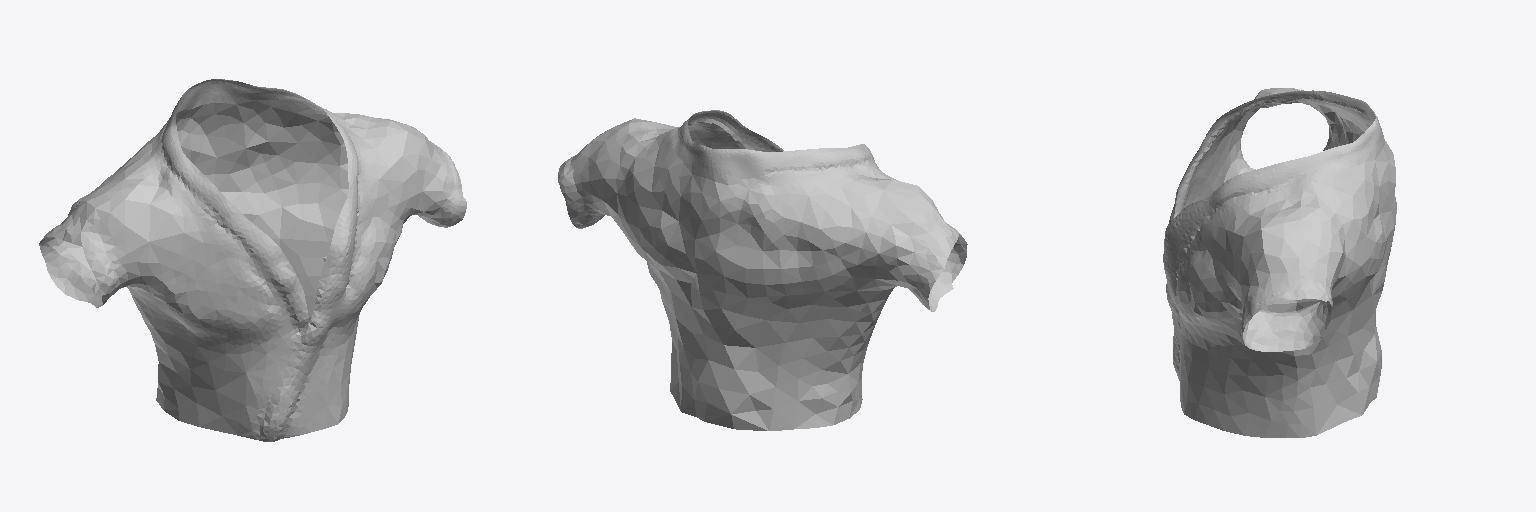
The model's file is Yoda_Shirt_2.obj.
The picture shows the model from 3 angles: view 1: azimuth 30°, elevation 25°; view 2: azimuth 150°, elevation 25°; view 3: azimuth 270°, elevation 25°; orthographic projection.
Size of the model in its own units: 3.23 by 2.26 by 1.67.